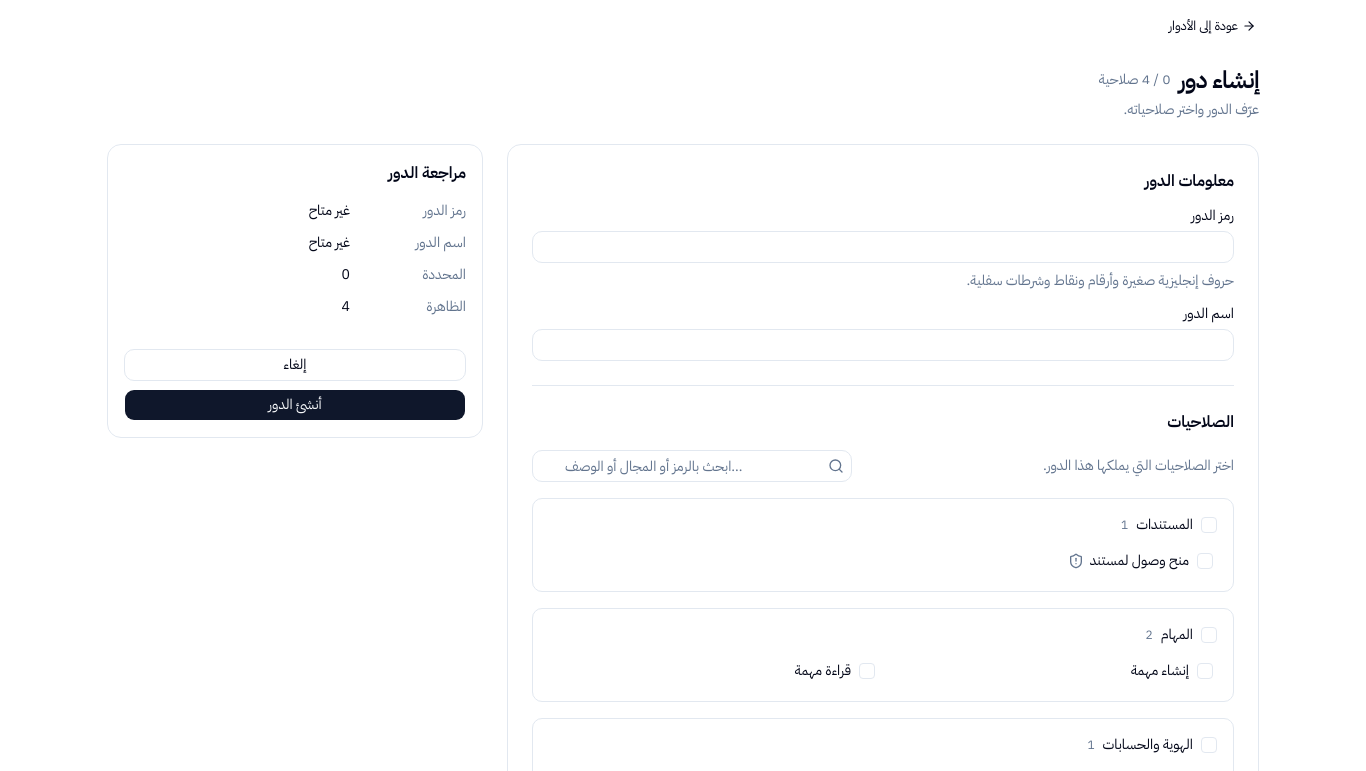
Scenario: role form page — create › clears a whole group with the group checkbox when everything is selected
This screenshot has width=1366, height=771.
Expected: the text "المهام" is shown, [1161,625,1193,645]
Click the checkbox named "تحديد المجموعة" next to "المهام" at (1209, 635), box [1201,627,1217,643]
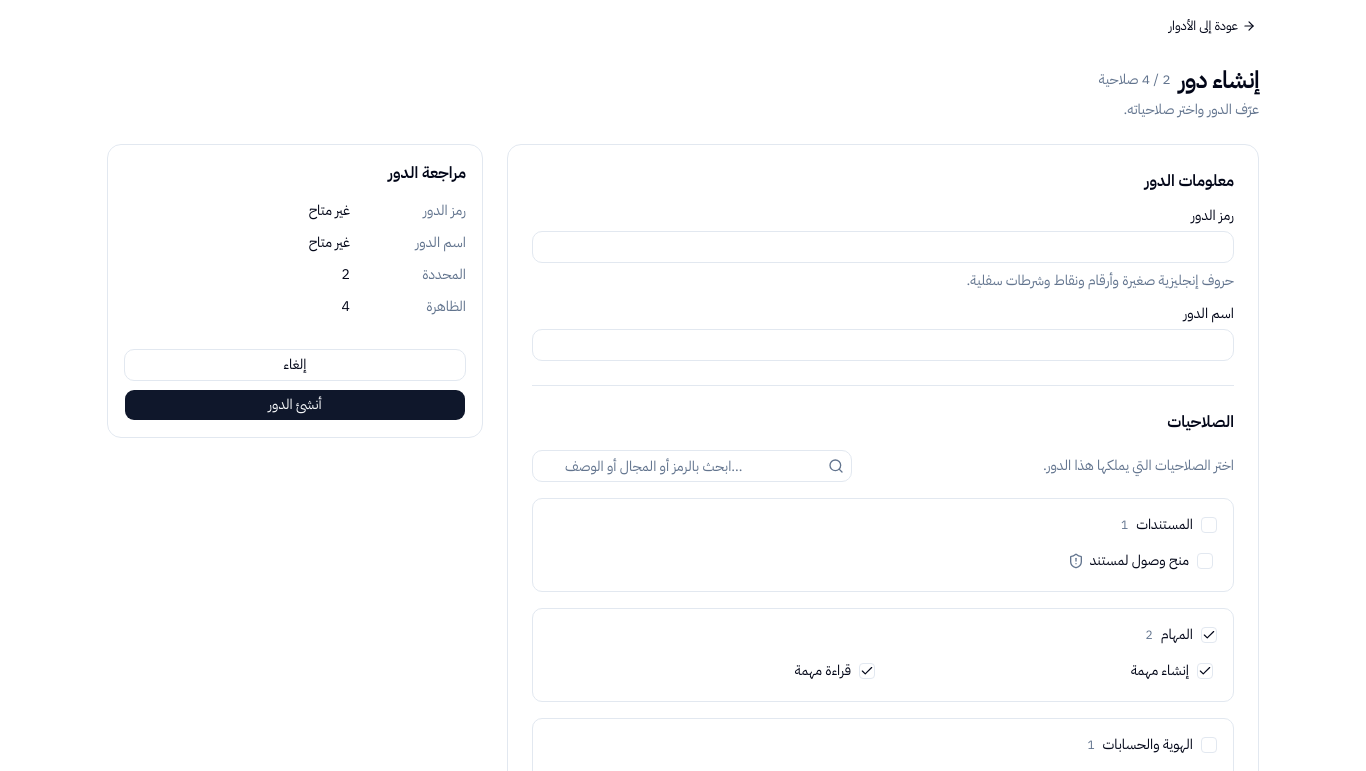
Now the checkbox named "قراءة مهمة" next to "قراءة مهمة" is checked, box [859,663,875,679]
Now the checkbox named "إنشاء مهمة" next to "إنشاء مهمة" is checked, box [1197,663,1213,679]
# The group checkbox now reads as «إلغاء تحديد المجموعة» and clears.
Click the checkbox named "إلغاء تحديد المجموعة" at (1209, 635), box [1201,627,1217,643]
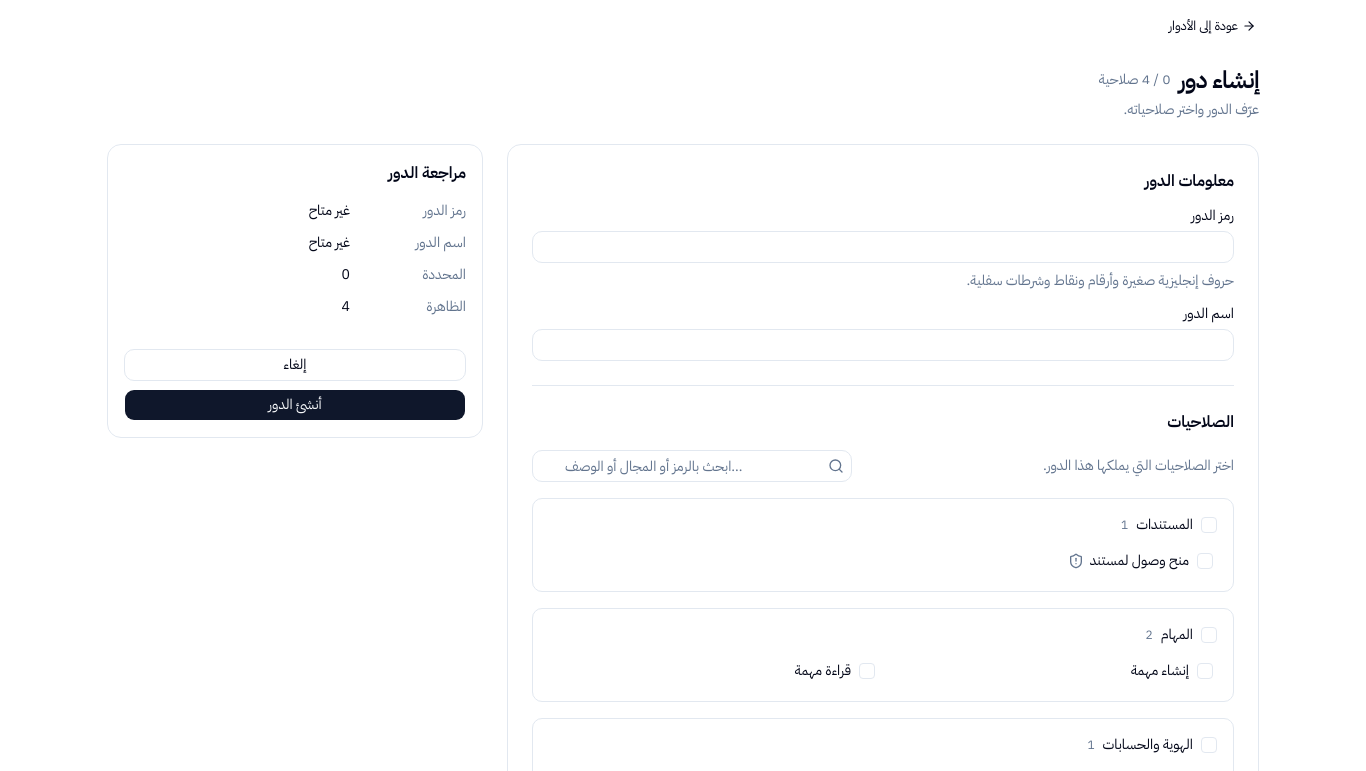
Now the checkbox named "قراءة مهمة" next to "قراءة مهمة" is not checked, box [859,663,875,679]
Now the checkbox named "إنشاء مهمة" next to "إنشاء مهمة" is not checked, box [1197,663,1213,679]
